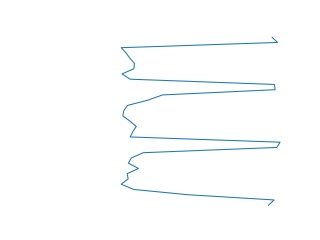majorRiverChannelBar: (118, 38, 282, 208)
